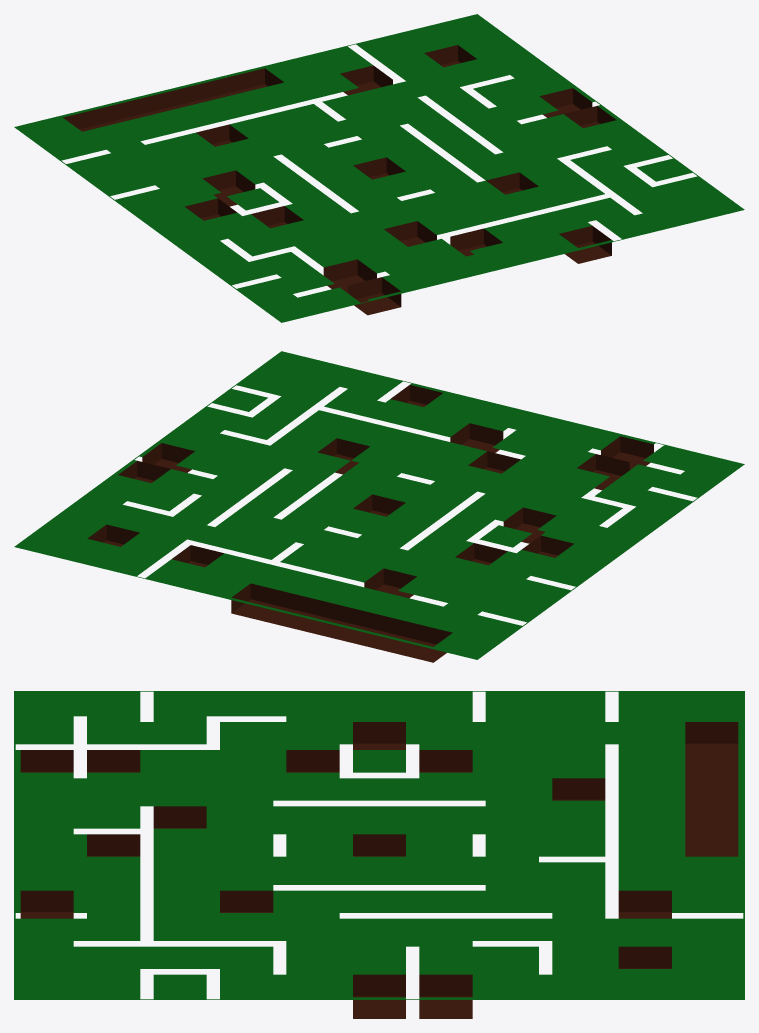
The model's file is TrayFloor2.FBX.
3 views of the same model, one above another, from view 1: azimuth 30°, elevation 25°; view 2: azimuth 150°, elevation 25°; view 3: azimuth 270°, elevation 25° (orthographic). The views are drawn at different scales.
Parts seen in each view (by area): view 1: FloorTwo; view 2: FloorTwo; view 3: FloorTwo.
Part boxes in pixels (x1,y1,x2,y2): FloorTwo: (14, 14, 744, 322); FloorTwo: (14, 351, 744, 662); FloorTwo: (14, 691, 744, 1018).
Size of the model in its own units: 551 by 18 by 551.
